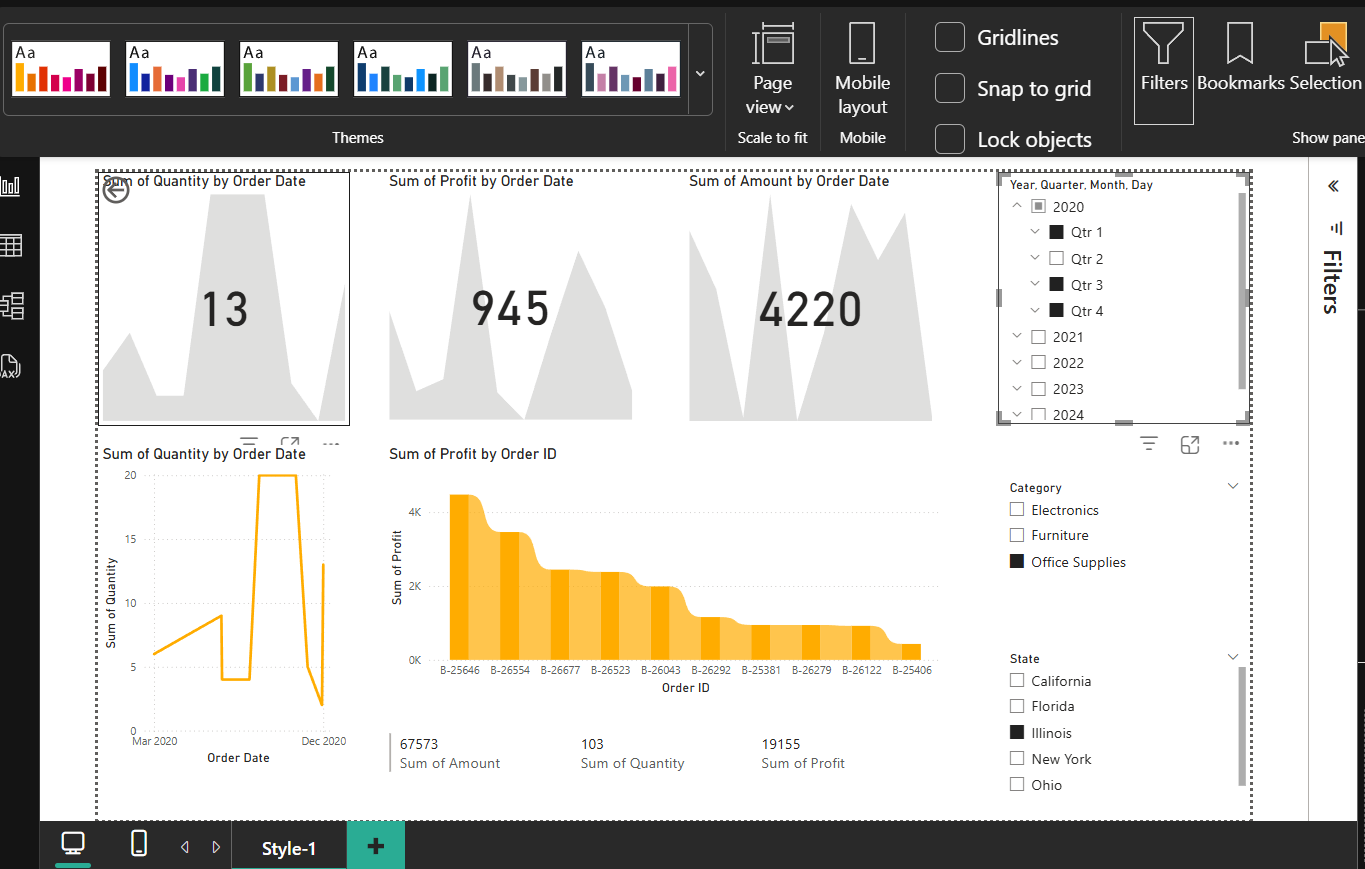

This screenshot's page, from the dashboard's own definition file:
{"tool":"powerbi","page":{"name":"Style-1","canvas":[1280,720],"ordinal":0},"visuals":[{"type":"kpi","fields":{"TrendLine":["Sales Dataset.Order Date"],"Indicator":["Sum(Sales Dataset.Profit)"]},"box":[318,0,280,280],"z":0},{"type":"kpi","fields":{"Indicator":["Sum(Sales Dataset.Quantity)"],"TrendLine":["Sales Dataset.Order Date"]},"box":[0,0,279.7,281.6],"z":1000},{"type":"kpi","fields":{"Indicator":["Sum(Sales Dataset.Amount)"],"TrendLine":["Sales Dataset.Order Date"]},"box":[651.7,0,280,281.7],"z":2000},{"type":"lineChart","fields":{"Y":["Sum(Sales Dataset.Quantity)"],"Category":["Sales Dataset.Order Date"]},"box":[0,303.3,280,360],"z":3000},{"type":"slicer","fields":{"Values":["Sales Dataset.Order Date.Variation.Date Hierarchy.Year","Sales Dataset.Order Date.Variation.Date Hierarchy.Quarter","Sales Dataset.Order Date.Variation.Date Hierarchy.Month","Sales Dataset.Order Date.Variation.Date Hierarchy.Day"]},"box":[1000,0,280,280],"z":4000},{"type":"slicer","fields":{"Values":["Sales Dataset.Category"]},"box":[1000,336.7,280,146.7],"z":5000},{"type":"actionButton","box":[0,0,100,40],"z":6000},{"type":"multiRowCard","fields":{"Values":["Sum(Sales Dataset.Amount)","Sum(Sales Dataset.Quantity)","Sum(Sales Dataset.Profit)"]},"box":[318.3,618.3,625,88.3],"z":6001},{"type":"ribbonChart","fields":{"Category":["Sales Dataset.Order ID"],"Y":["Sum(Sales Dataset.Profit)"]},"box":[318.3,303.3,625,281.7],"z":6002},{"type":"slicer","fields":{"Values":["Sales Dataset.State"]},"box":[1000,526.7,280,180],"z":6003}]}

Visuals, with their boxes on the page's 1280x720 design canvas (x1, y1, x2, y2). These are canvas units, not pixel positions in the 1365x869 screenshot, which may show the page scaled, cropped or inside an application window:
kpi - Sales Dataset.Order Date x Sum(Sales Dataset.Profit): 318, 0, 598, 280
kpi - Sum(Sales Dataset.Quantity) x Sales Dataset.Order Date: 0, 0, 280, 282
kpi - Sum(Sales Dataset.Amount) x Sales Dataset.Order Date: 652, 0, 932, 282
lineChart - Sum(Sales Dataset.Quantity) x Sales Dataset.Order Date: 0, 303, 280, 663
slicer - Sales Dataset.Order Date.Variation.Date Hierarchy.Year x Sales Dataset.Order Date.Variation.Date Hierarchy.Quarter: 1000, 0, 1280, 280
slicer - Sales Dataset.Category: 1000, 337, 1280, 483
actionButton: 0, 0, 100, 40
multiRowCard - Sum(Sales Dataset.Amount) x Sum(Sales Dataset.Quantity): 318, 618, 943, 707
ribbonChart - Sales Dataset.Order ID x Sum(Sales Dataset.Profit): 318, 303, 943, 585
slicer - Sales Dataset.State: 1000, 527, 1280, 707
